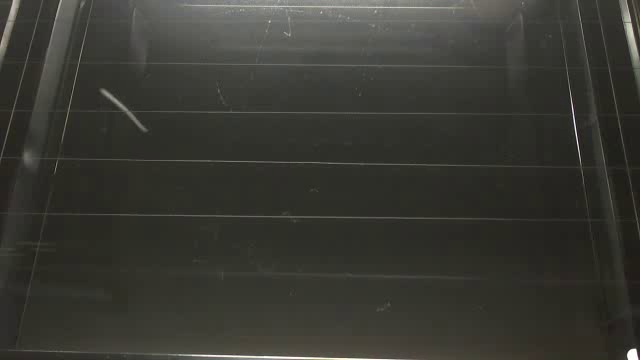Alfa: (95, 86, 150, 136)
